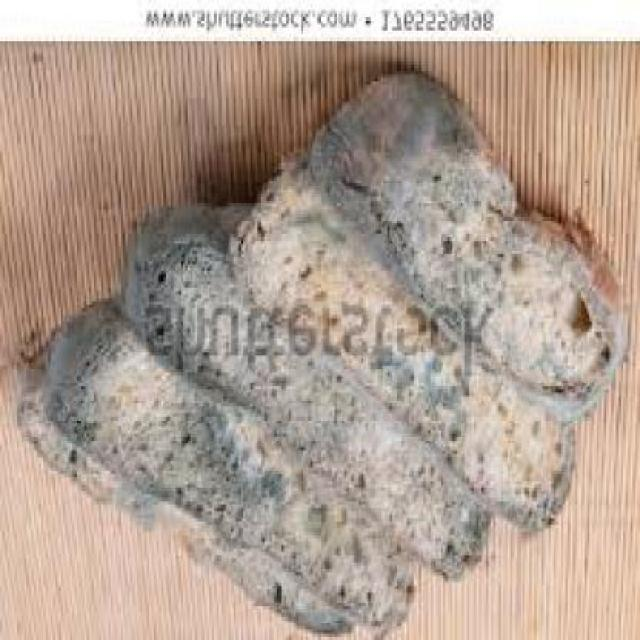BIODEGRADABLE: (17, 71, 620, 637), (120, 197, 486, 586), (224, 152, 573, 528), (43, 302, 417, 638), (306, 75, 620, 423), (12, 352, 351, 638)
CARDBOARD: (53, 47, 142, 308), (512, 78, 638, 210), (0, 46, 54, 352), (483, 542, 639, 638), (144, 44, 222, 213), (0, 592, 234, 638), (347, 47, 638, 78), (575, 423, 637, 539), (14, 502, 94, 589), (260, 45, 322, 152), (622, 267, 638, 638), (224, 48, 258, 203), (408, 590, 484, 638), (97, 542, 171, 589), (0, 355, 12, 595), (597, 210, 637, 264), (472, 78, 512, 125), (14, 468, 48, 502), (325, 48, 340, 115), (489, 125, 513, 156), (171, 569, 197, 593), (94, 518, 123, 538), (442, 78, 472, 94), (459, 95, 472, 112), (498, 156, 513, 170), (478, 122, 491, 136), (436, 78, 442, 85)
